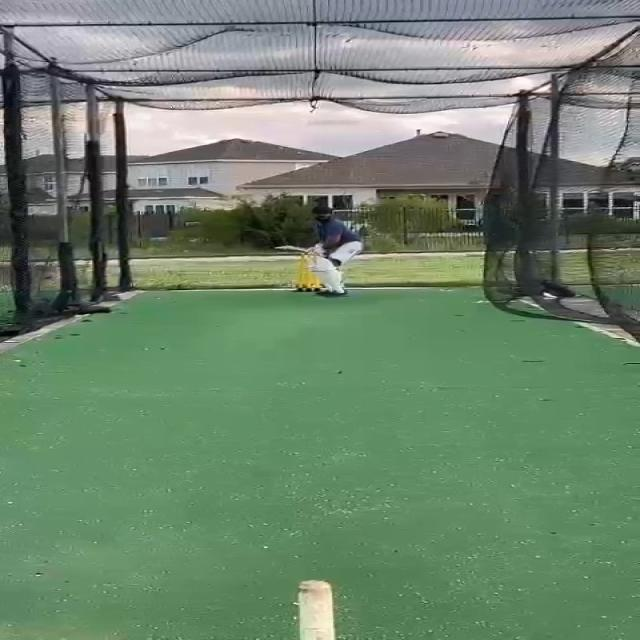batsman: (274, 203, 366, 299)
